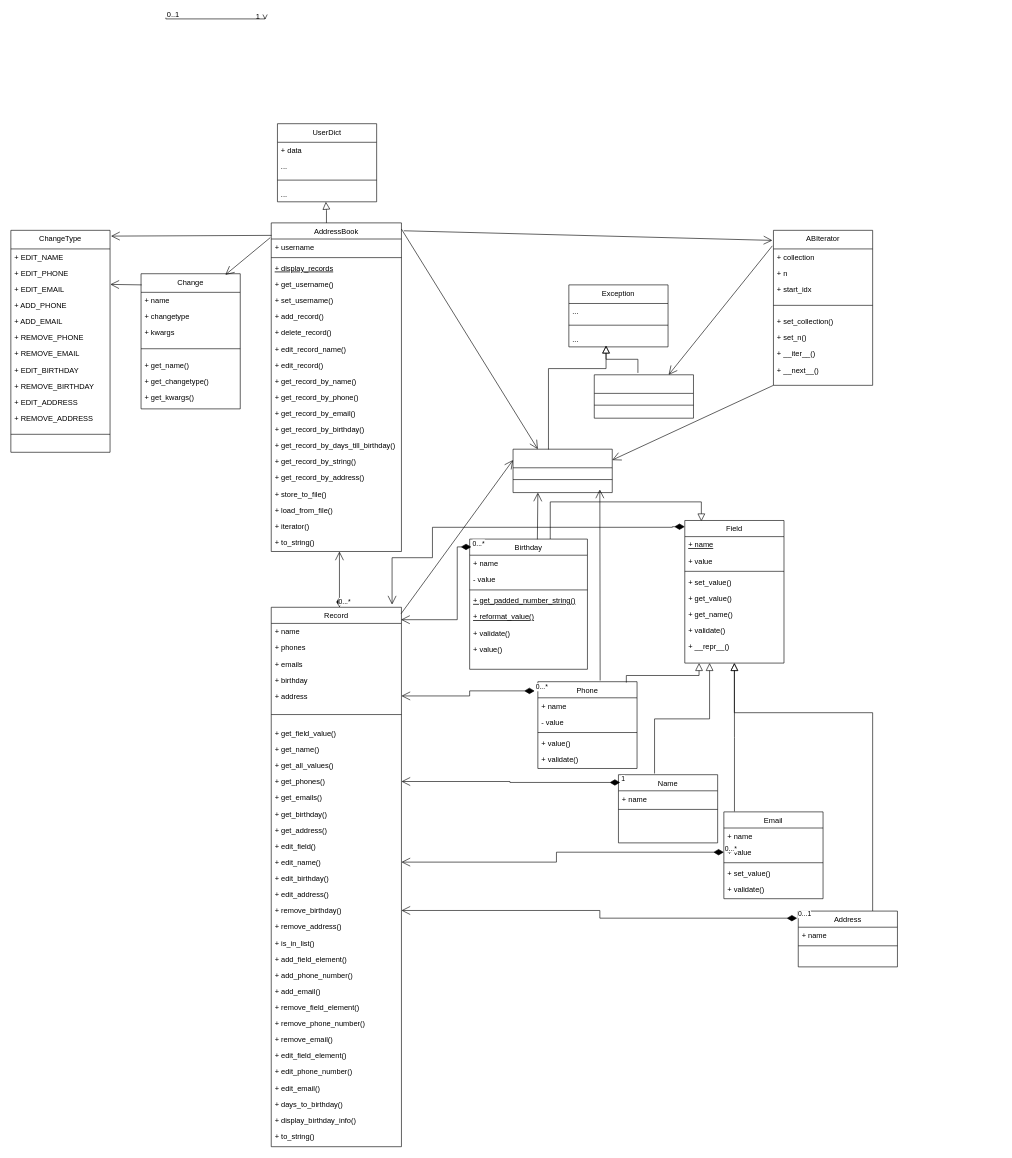
This 1012x1158 diagram has some shape labels left out. The shapes that lost their labels are listed below. From the top down, each one's centre as x and y in pixels, then its label:
(x=643, y=396): MyIteratorNException
(x=562, y=471): MyException
